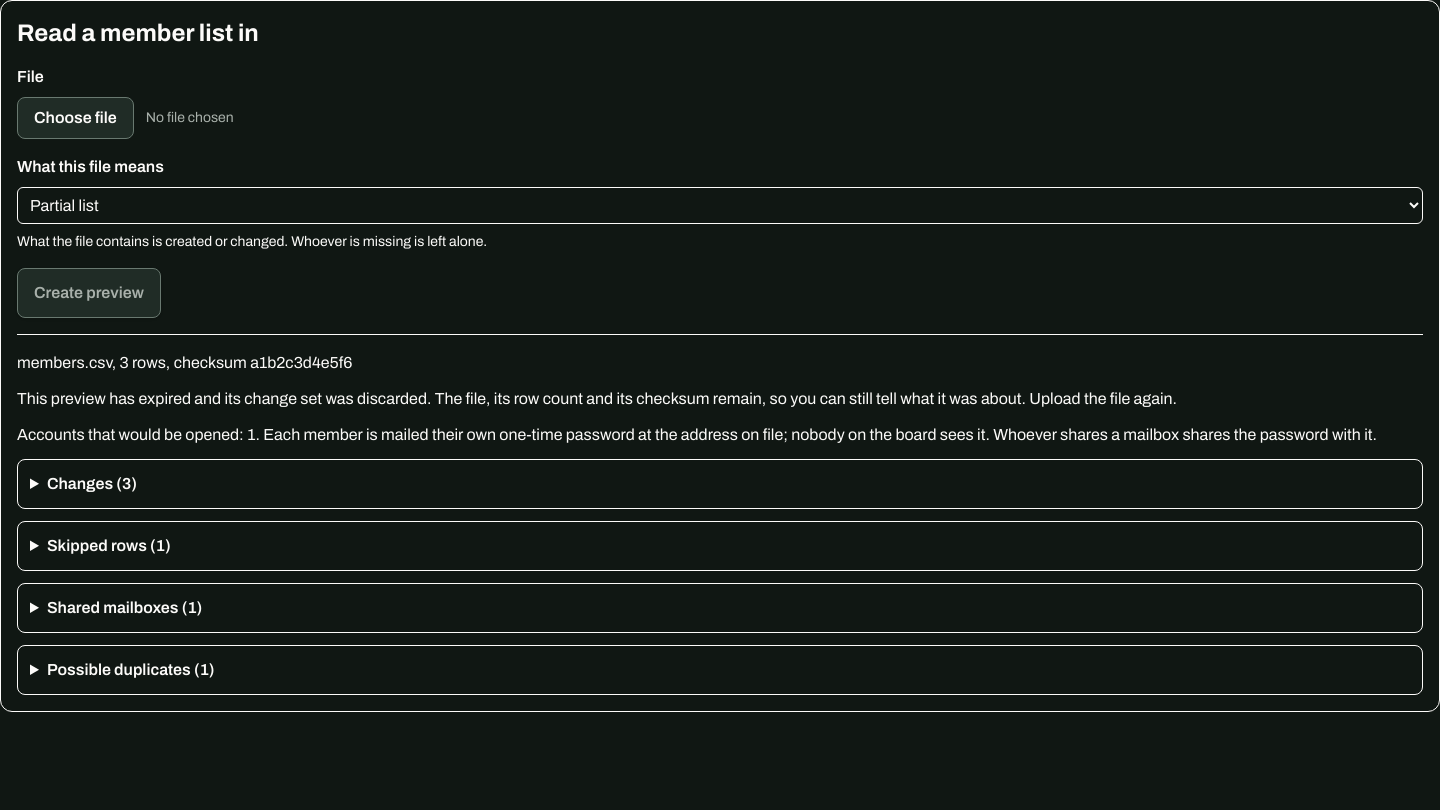
ImportPreviewPanel › given a positional row with the wrong width (import.snapshot.row.columnsUnexpected), when the preview is read, then it names both counts
This screenshot has width=1440, height=810.
Click the heading with test id "row-errors-heading": (109, 546) [47, 537, 171, 554]
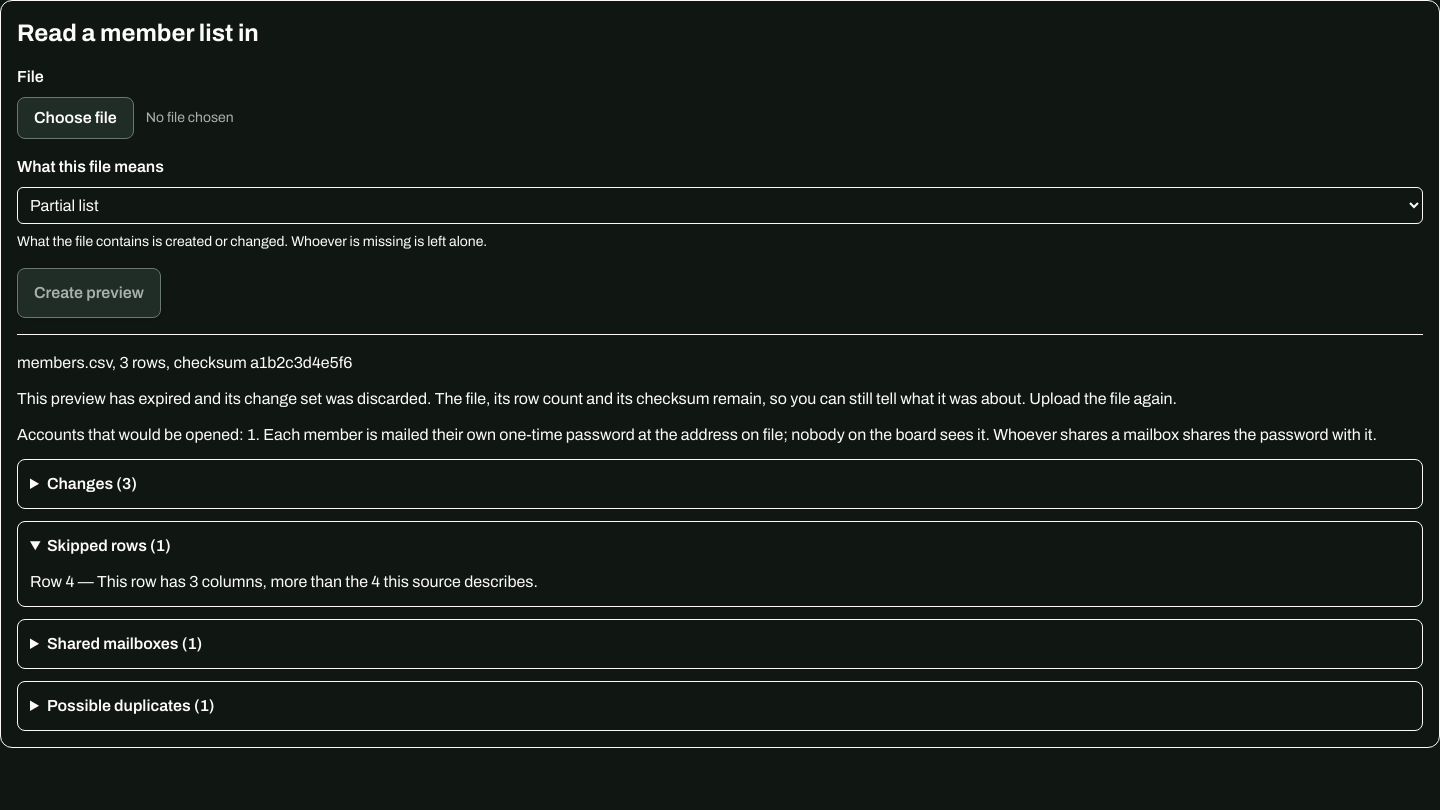
Expected: the list item with test id "row-error-4" does not show "import.snapshot.row.columnsUnexpected", [30, 573, 538, 590]
Now the list item with test id "row-error-4" shows "more", box [97, 573, 538, 590]
